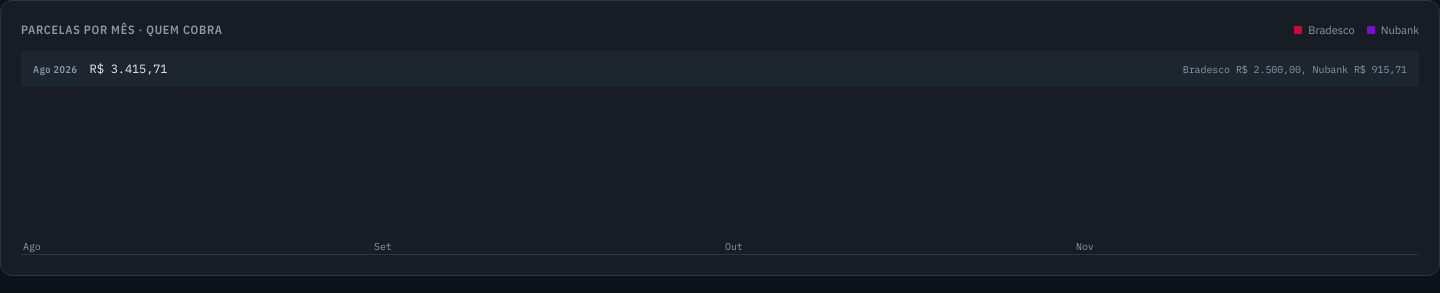
Test: GraficoCompromissos › mostra os valores do mês sob o cursor
Hover over the button "set" at (383, 246), box left=372, top=231, right=717, bottom=254
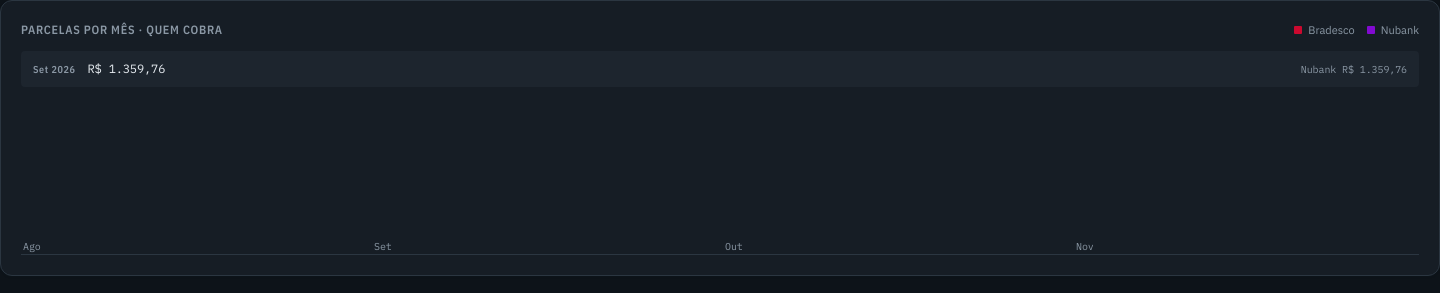
Check: the text "R$ 1.359,76" is shown 2 times, box left=87, top=61, right=165, bottom=77; left=1301, top=62, right=1407, bottom=76
Check: the text "Nubank R$ 1.359,76" is shown, box left=1301, top=62, right=1407, bottom=76
